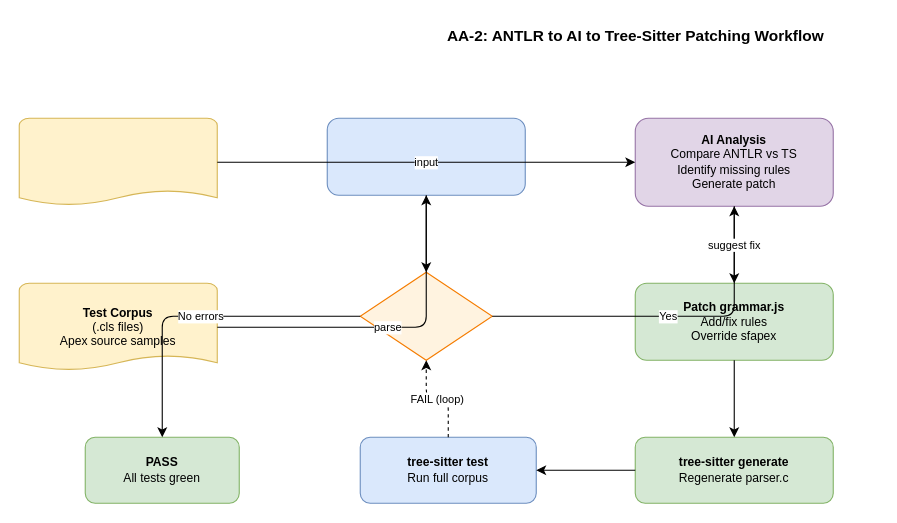
The diagram is 897 pixels wide and 523 high, and some of its shapes have lost their labels. The box of each missing label's shape, as (x1, y1, x2, y2) in pixels:
ANTLR Grammar (.g4 files) Apex.g4 / ApexLexer.g4: (18, 117, 217, 206)
ERROR nodes?: (359, 271, 492, 360)
tree-sitter parse Parse test files Detect ERROR nodes: (326, 117, 525, 195)
